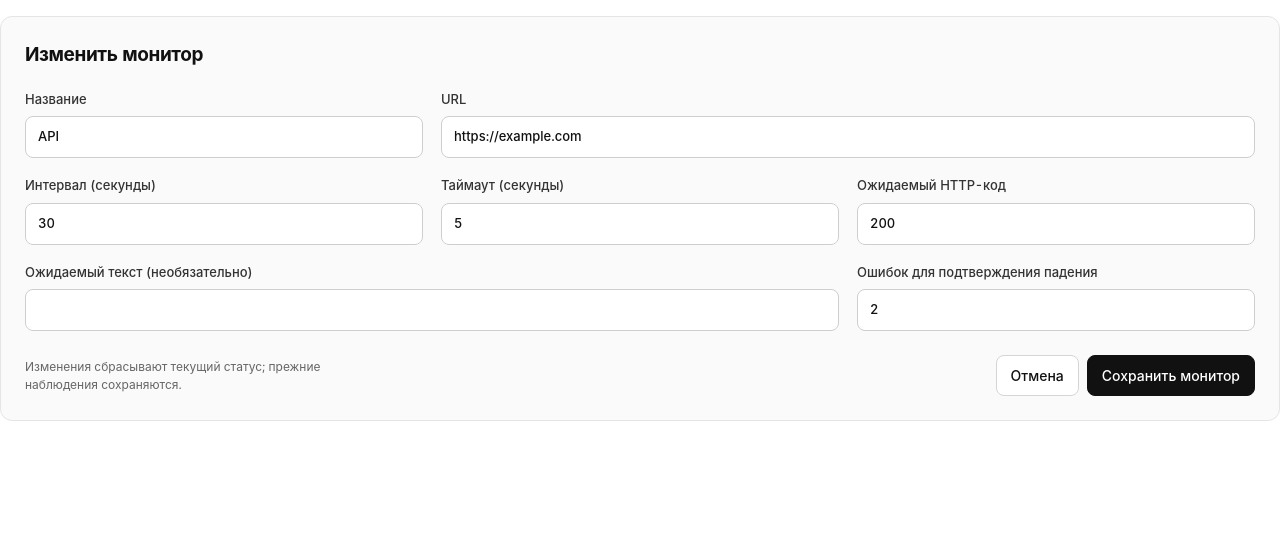
Test: keeps a conflicted draft until the user explicitly reloads it
Replace the text in the field labelled "Название" with "My draft": (224, 137) left=25, top=116, right=423, bottom=158
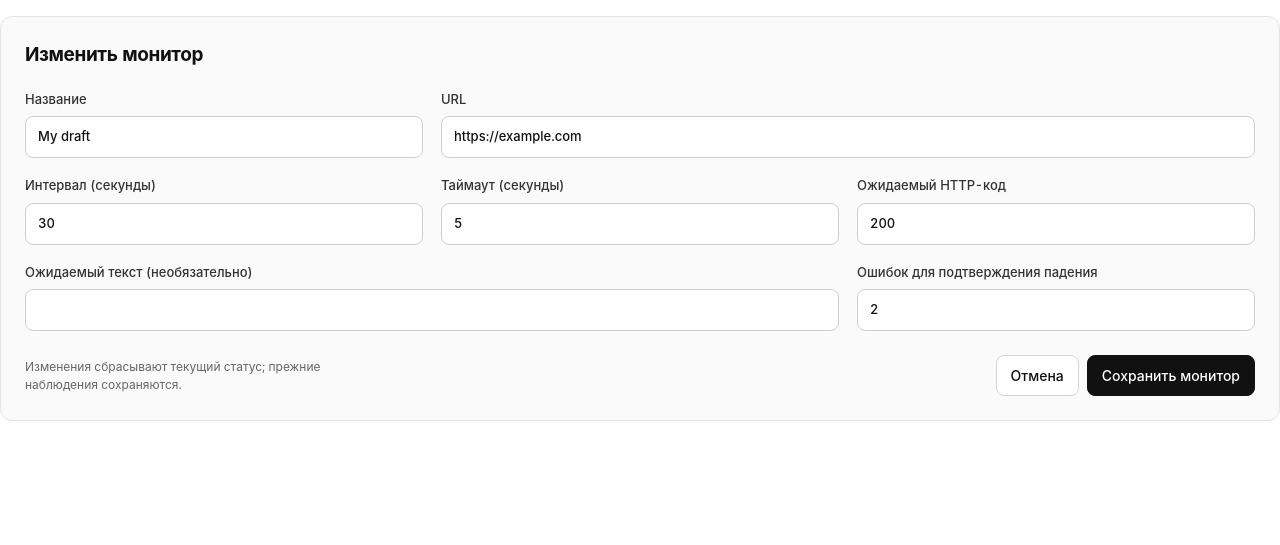
Click the button "Сохранить монитор": click(1171, 376) left=1087, top=355, right=1255, bottom=396
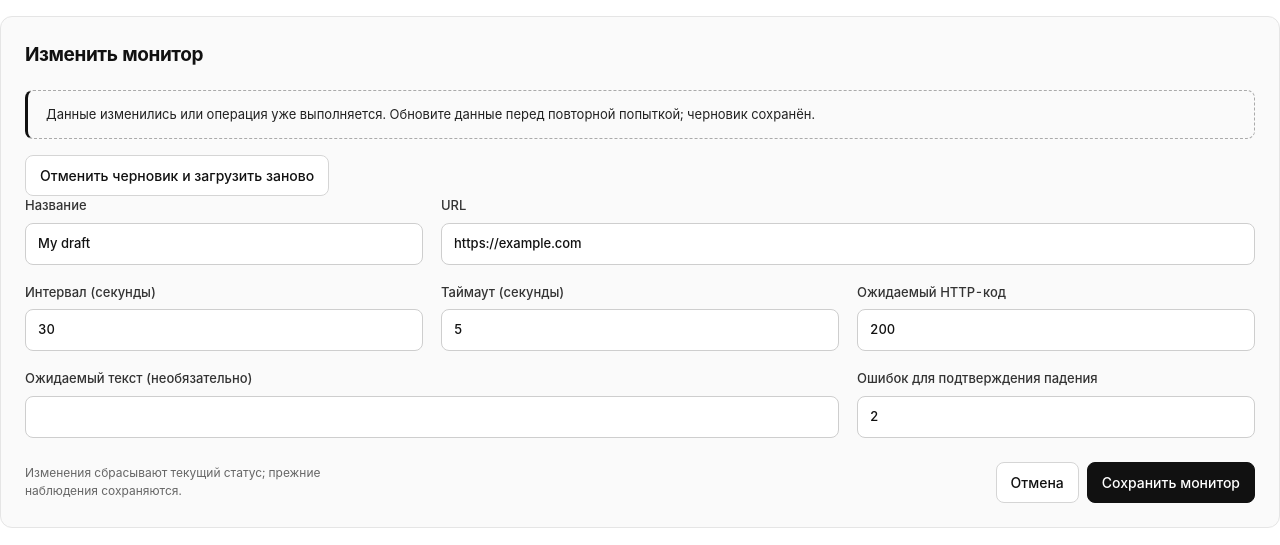
Expected: the message shows "Данные изменились или операция уже выполняется. Обновите данные перед повторной попыткой; черновик сохранён.", left=46, top=106, right=815, bottom=122
Click the button "Отменить черновик и загрузить заново": click(177, 176) left=25, top=155, right=329, bottom=196
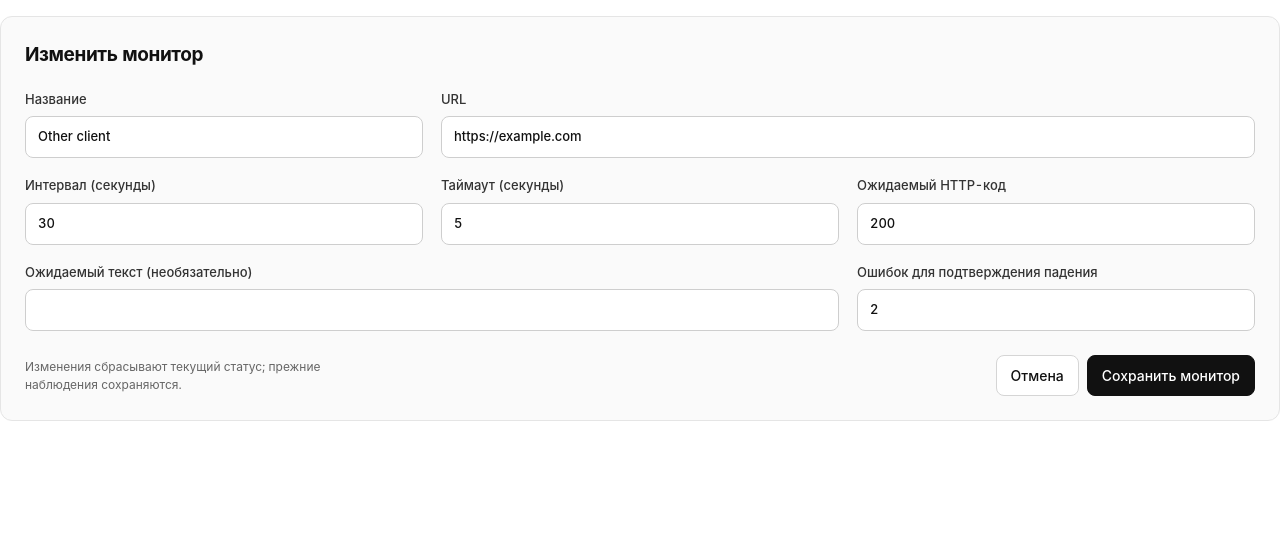
Expected: the field showing "Other client" is shown, left=25, top=116, right=423, bottom=158
